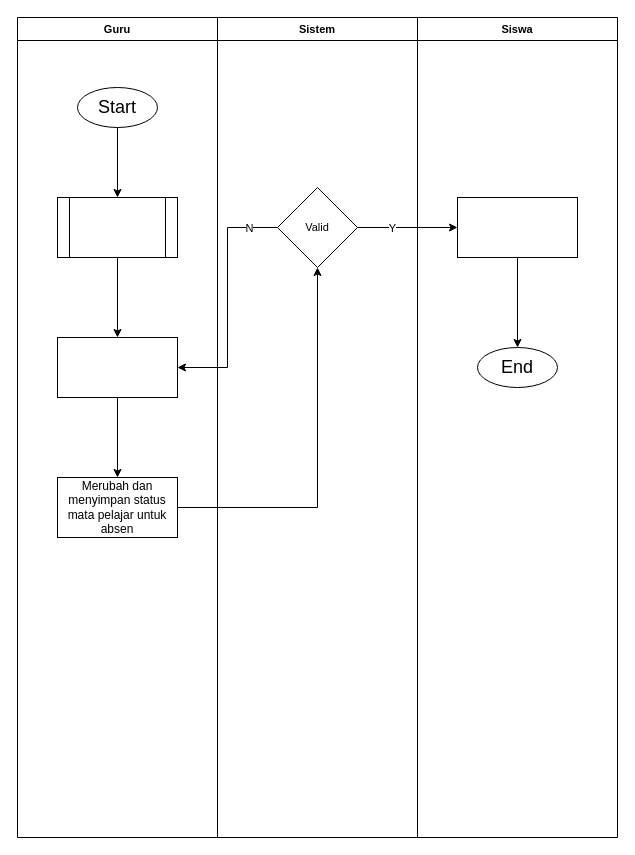
This 635x855 diagram has some shape labels left out. The shapes that lost their labels are listed below. From the top down, each one's centre as x and y in pixels, then its label:
At [117,227]: "Login".
At [517,227]: "Halaman Absen dan klik absen".
At [117,367]: "Halaman Mata Pelajaran".
